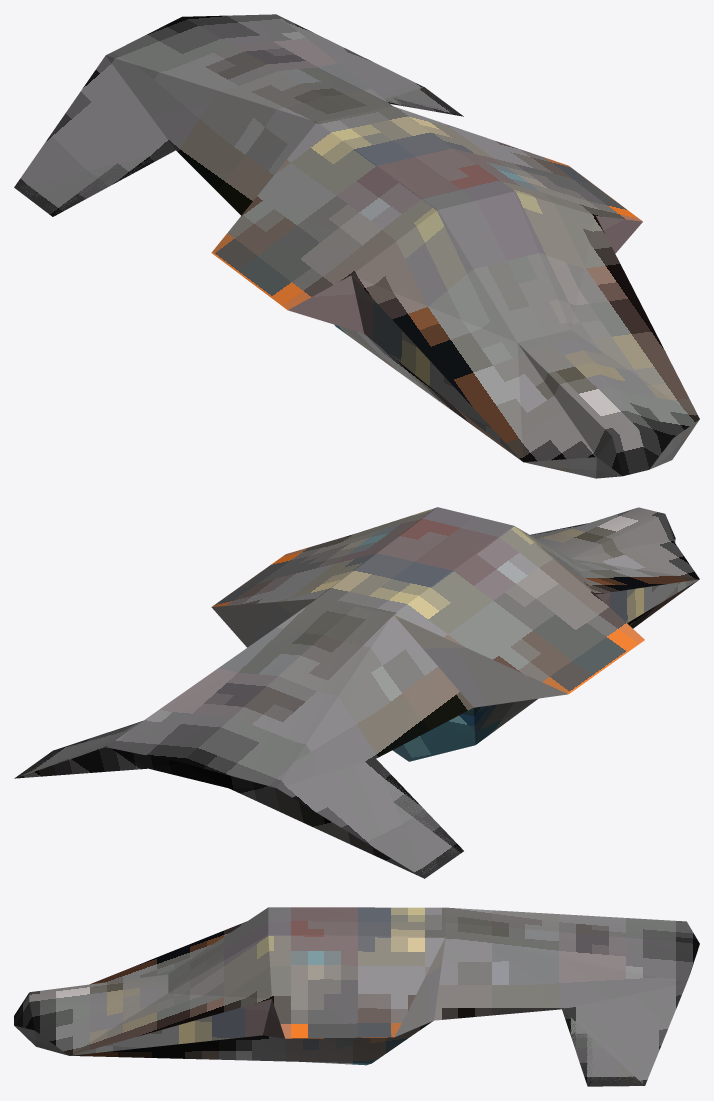
The picture shows the model from 3 angles, top to bottom: view 1: azimuth 30°, elevation 25°; view 2: azimuth 150°, elevation 25°; view 3: azimuth 270°, elevation 25°; orthographic projection. The views are drawn at different scales.
Parts seen in each view (by area): view 1: LOD2_Texture; view 2: LOD2_Texture; view 3: LOD2_Texture.
Part boxes in pixels (x1=…): LOD2_Texture: x1=14, y1=14, x2=699, y2=478; LOD2_Texture: x1=14, y1=507, x2=699, y2=878; LOD2_Texture: x1=14, y1=907, x2=699, y2=1086.
Bounding box in the file's own units: 12.21 × 5.57 × 24.01.
